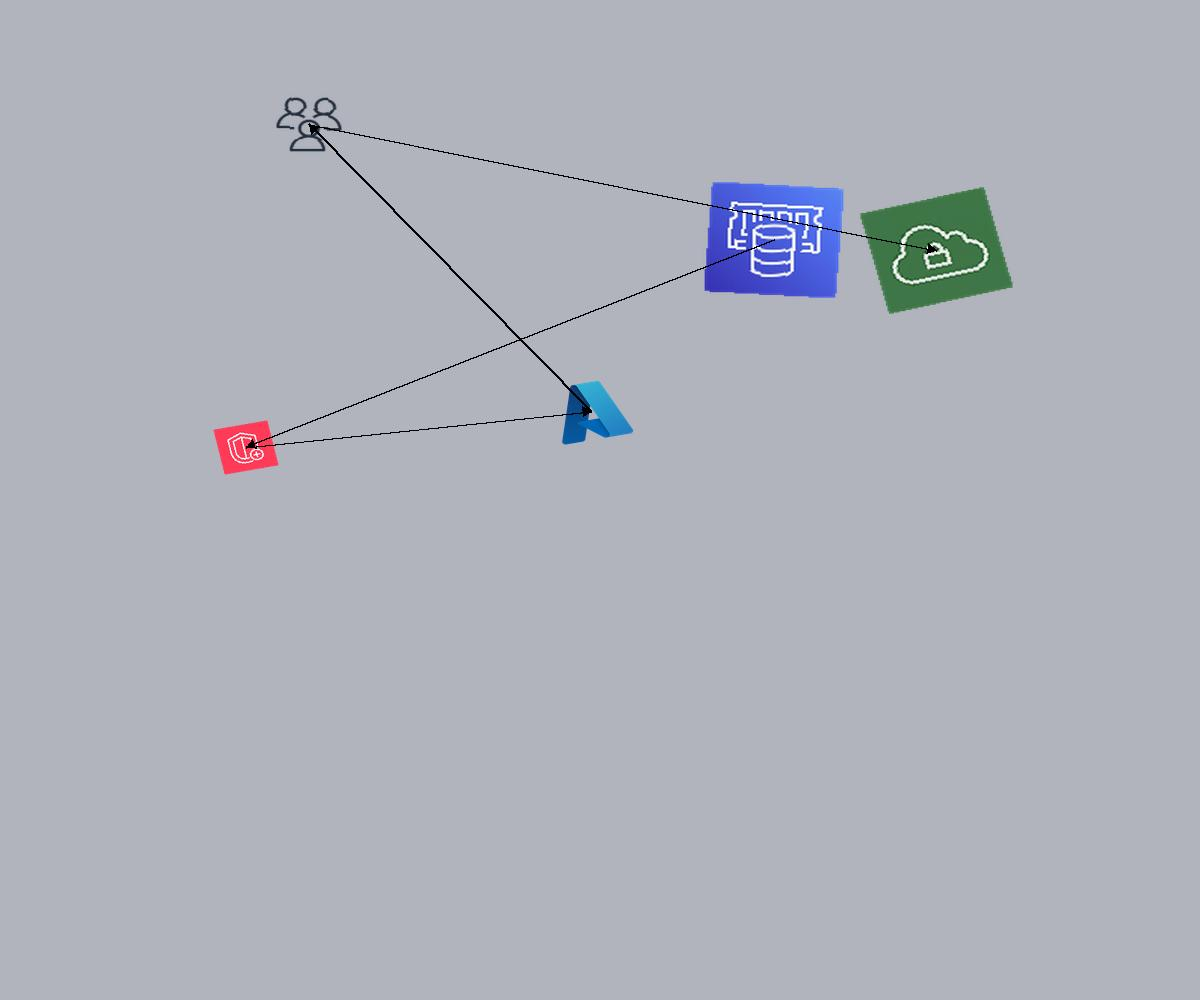AWS-ElastiCache: (703, 181, 845, 299)
AWS-Private_vpc: (859, 186, 1014, 315)
AWS-Res_Users: (272, 94, 346, 155)
AWS-Shield: (213, 420, 279, 475)
Azure_services: (545, 372, 638, 450)
